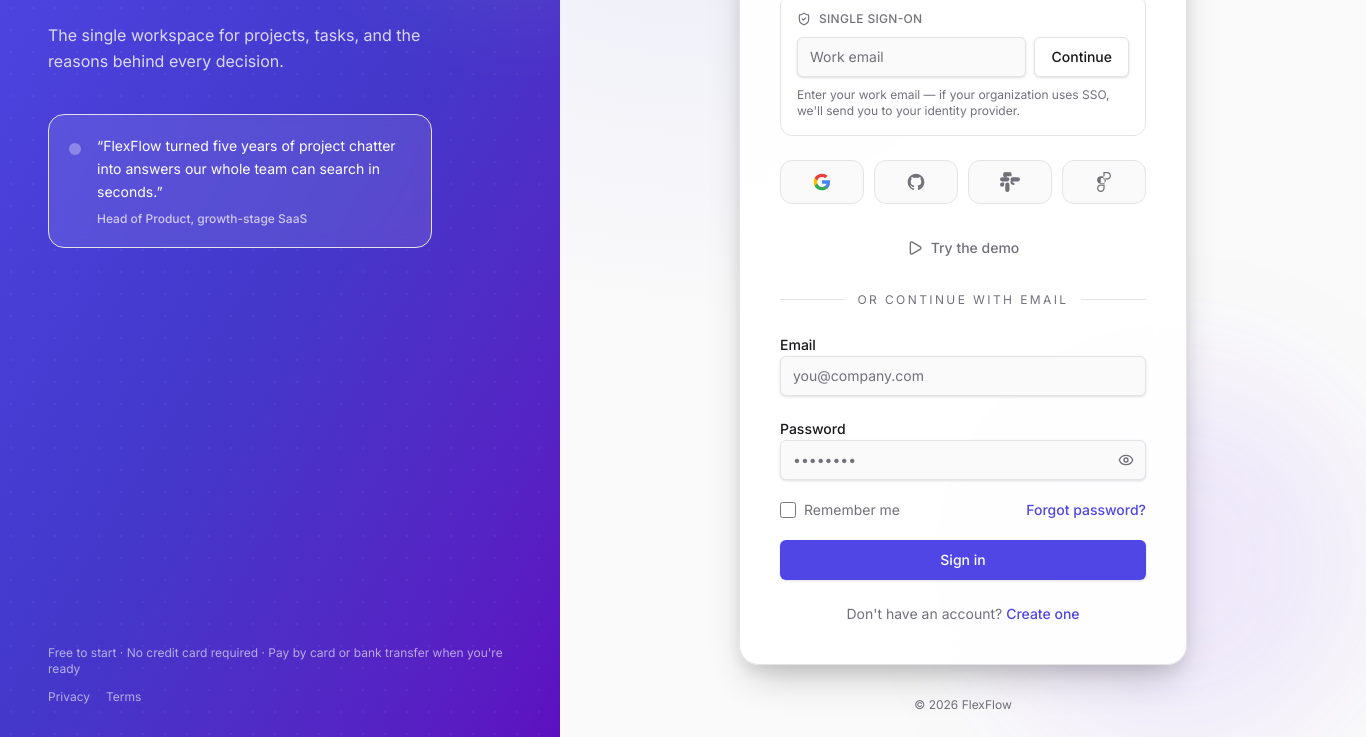
Test: Login page › shows validation errors when submitting empty form
(page scrolled)
Click the button "Sign in" at (963, 560), box left=780, top=540, right=1146, bottom=580
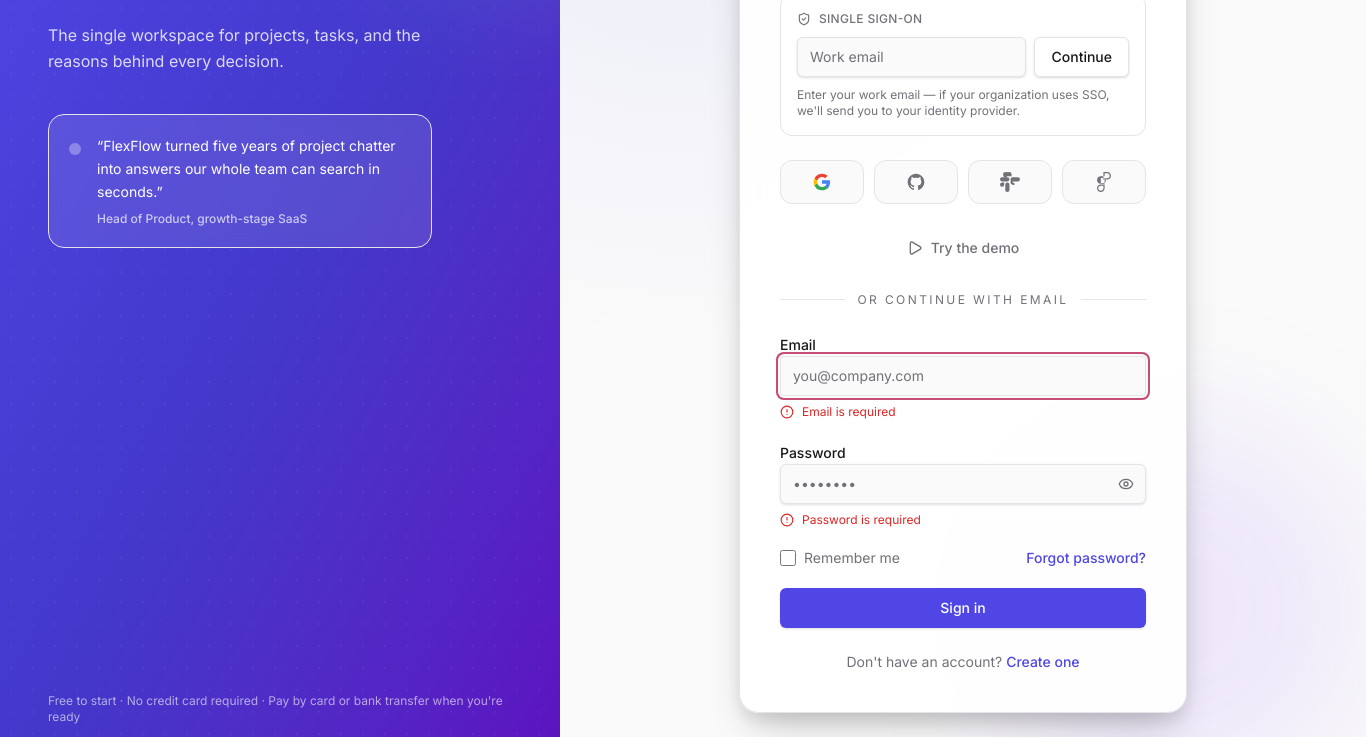
Result: the text "Email is required" is shown at left=780, top=404, right=896, bottom=418
